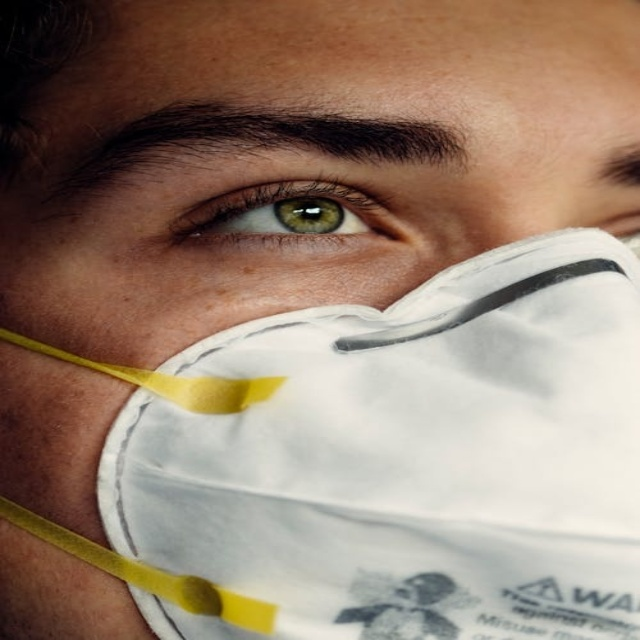Mascara: (86, 220, 638, 640)
Sin_gafas: (51, 106, 632, 269)
